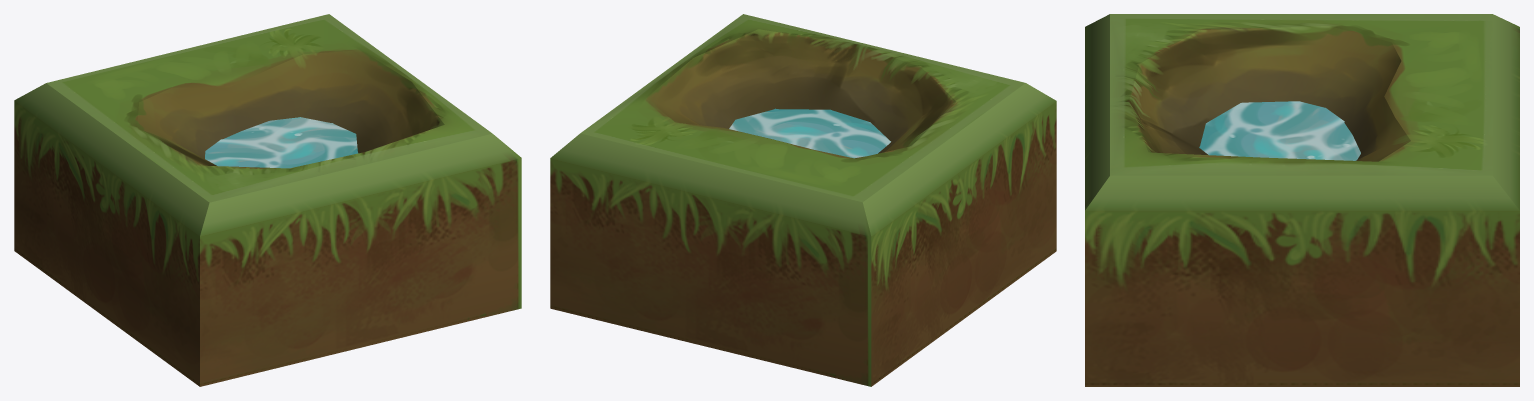
Rendered from tile_Pond5.FBX.
The picture shows the model from 3 angles, left to right: view 1: azimuth 30°, elevation 25°; view 2: azimuth 150°, elevation 25°; view 3: azimuth 270°, elevation 25°; orthographic projection. The views are drawn at different scales.
Parts seen in each view (by area): view 1: Tile_OasisShape003; view 2: Tile_OasisShape003; view 3: Tile_OasisShape003.
Part boxes in pixels (x1,y1,x2,y2): Tile_OasisShape003: (14,14,521,386); Tile_OasisShape003: (550,14,1056,386); Tile_OasisShape003: (1085,14,1519,386).
Bounding box in the file's own units: 25.2 × 13.43 × 25.2.
1 material, 1 textured.
